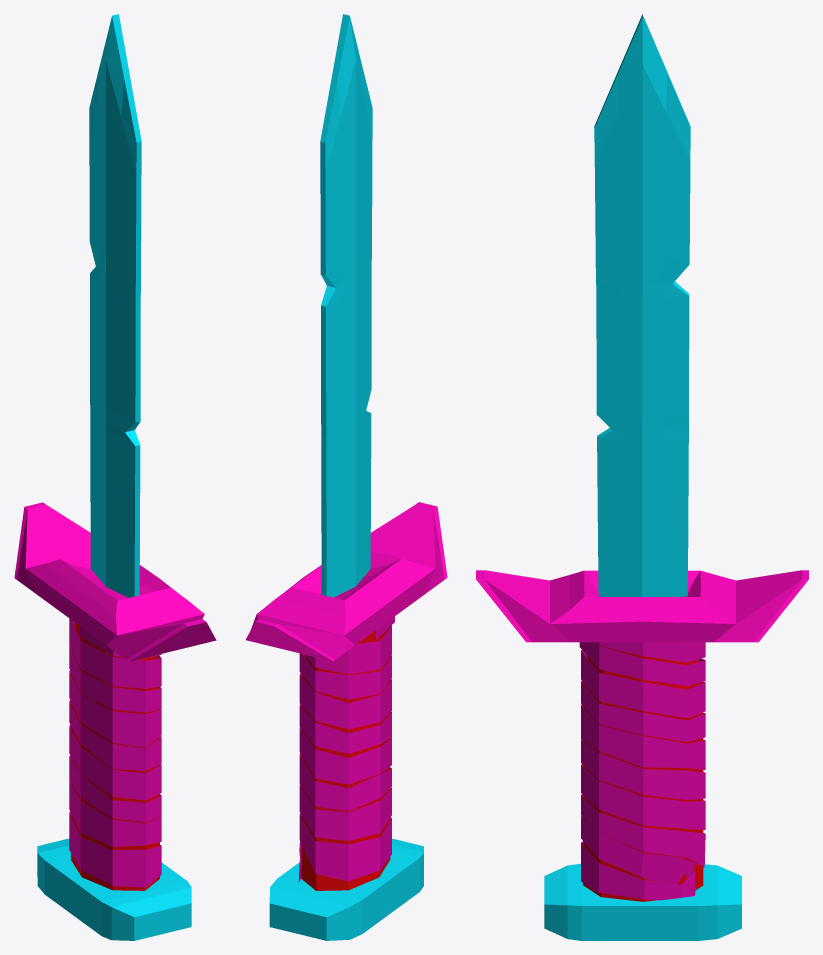
Rendered from sword.fbx.
3 renders of one model, left to right at view 1: azimuth 30°, elevation 25°; view 2: azimuth 150°, elevation 25°; view 3: azimuth 270°, elevation 25°, orthographic.
Parts seen in each view (by area): view 1: pCube3; view 2: pCube3; view 3: pCube3.
Boxes of the visible parts, x1,y1,x2,y2 form: pCube3: (14, 14, 216, 940); pCube3: (245, 14, 447, 940); pCube3: (476, 14, 808, 940).
Bounding box in the file's own units: 7.44 × 71.98 × 24.02.
